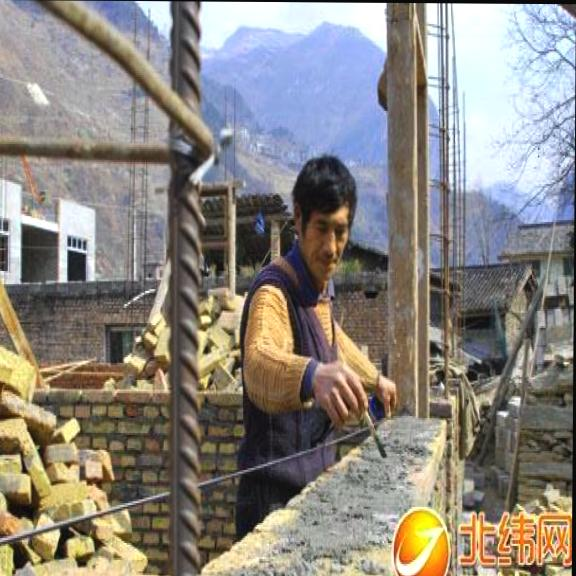no_safety_vest: (235, 267, 355, 534)
